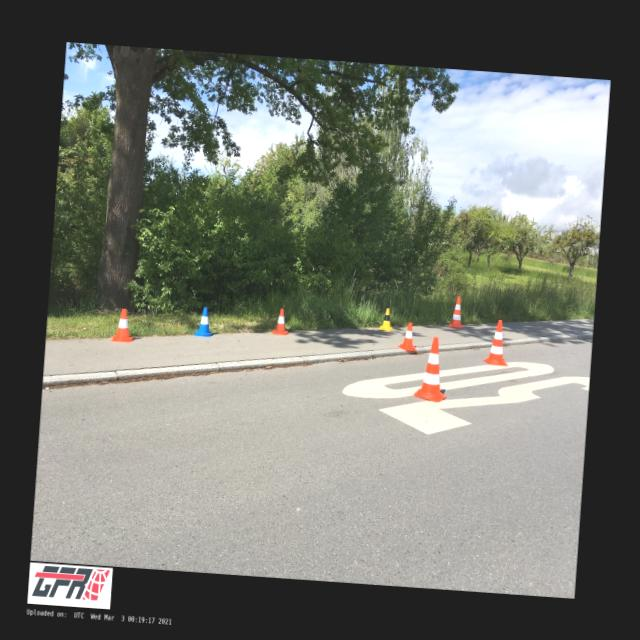blue_cone: (193, 306, 214, 337)
large_orange_cone: (414, 336, 449, 402), (482, 318, 510, 366), (448, 296, 465, 328)
orange_cone: (110, 308, 136, 342), (397, 321, 418, 351), (272, 308, 290, 335)
yellow_cone: (379, 307, 395, 330)
